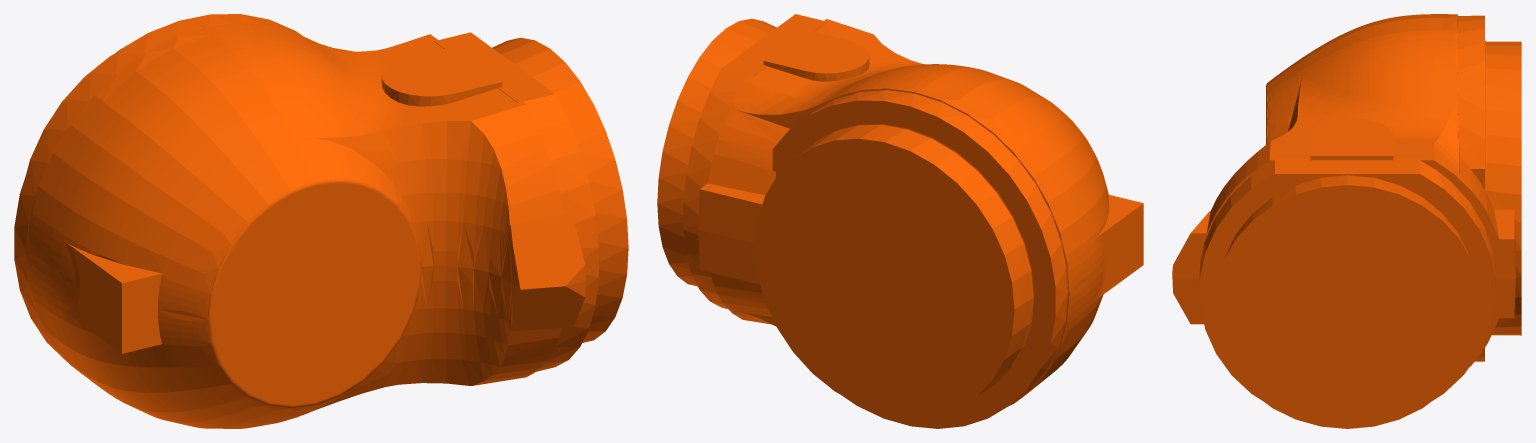
3 renders of one model, left to right at view 1: azimuth 30°, elevation 25°; view 2: azimuth 150°, elevation 25°; view 3: azimuth 270°, elevation 25°, orthographic. The views are drawn at different scales.
Visible parts, largest first — view 1: node0; view 2: node0; view 3: node0.
Boxes of the visible parts, <box> form: node0: <box>14,14,628,428</box>; node0: <box>657,14,1143,428</box>; node0: <box>1172,14,1521,428</box>.
Bounding box in the file's own units: 0.3125 × 0.2398 × 0.24.
